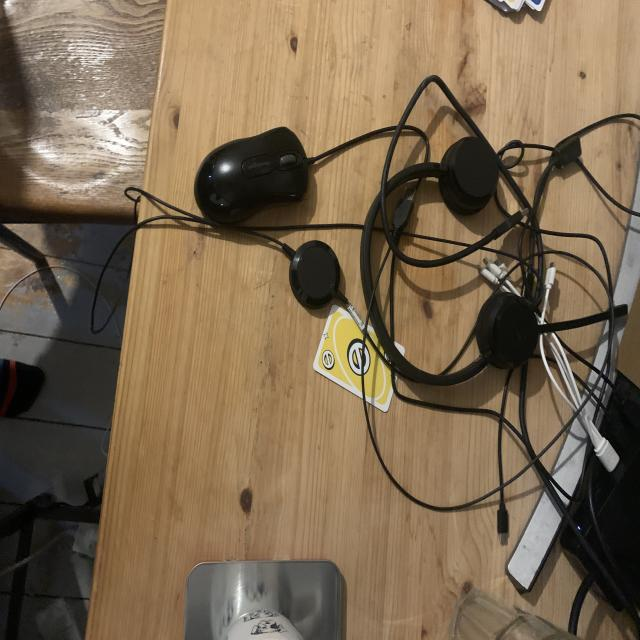lyellowskip-20: (320, 348, 338, 372)
